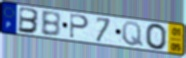7: (96, 17, 112, 43)
B: (17, 6, 41, 35), (40, 11, 63, 39)
O: (145, 23, 169, 51)
P: (69, 13, 91, 40)
Q: (121, 20, 144, 48)
